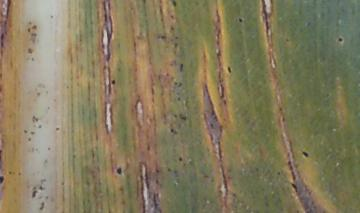tarspot: (38, 177, 48, 192), (278, 106, 285, 123), (177, 62, 186, 74), (290, 182, 298, 193), (31, 113, 39, 124), (38, 200, 45, 212), (31, 189, 39, 199), (300, 150, 309, 158), (25, 47, 34, 55), (178, 112, 186, 121), (115, 166, 122, 176), (175, 95, 182, 105), (336, 36, 344, 43), (109, 78, 117, 85), (226, 65, 232, 74), (169, 23, 175, 32), (1, 174, 5, 187), (170, 1, 177, 8), (31, 23, 38, 30), (22, 128, 29, 135), (284, 36, 291, 43), (237, 16, 243, 24), (169, 14, 175, 22), (177, 80, 183, 88), (26, 135, 32, 143), (173, 41, 179, 49), (6, 169, 12, 177), (46, 145, 52, 153), (54, 125, 60, 132), (275, 170, 281, 177), (28, 130, 36, 135), (37, 123, 42, 131), (169, 127, 175, 133), (159, 34, 165, 40), (173, 34, 179, 40), (177, 155, 182, 162), (26, 27, 31, 34), (172, 80, 178, 85), (49, 14, 54, 20), (1, 148, 3, 161), (141, 1, 147, 5)
